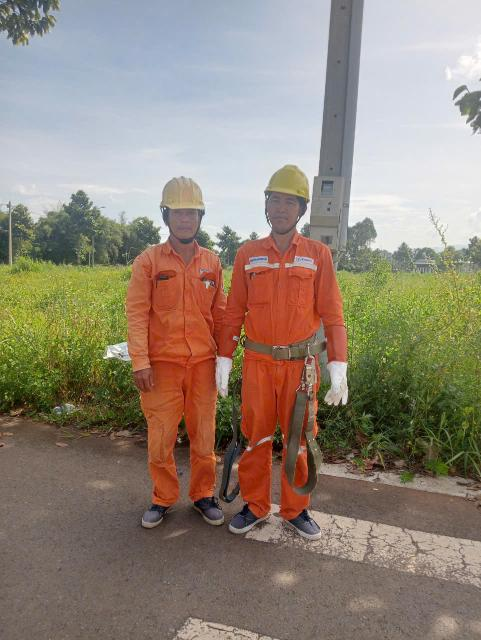gloves: (322, 361, 359, 412), (206, 348, 236, 396)
harness: (246, 317, 330, 373)
helmet: (258, 158, 315, 208), (158, 164, 209, 218), (286, 498, 327, 537), (139, 493, 173, 532), (222, 502, 269, 530), (200, 493, 226, 527)
